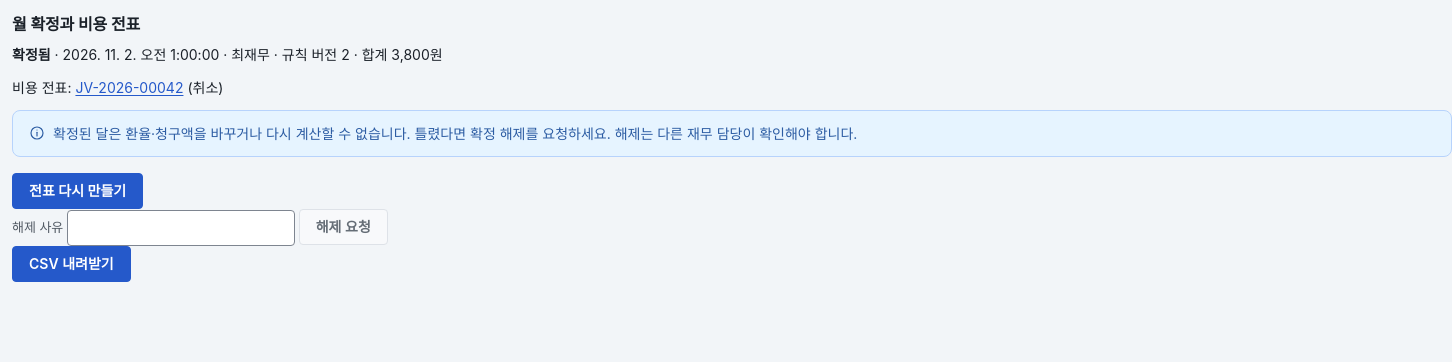
Test: 월 확정 패널 › 전표가 취소됐으면 다시 만들기 단추를 보이고, 서버 거절 문장을 그대로 보인다
The image size is (1452, 362).
Click the button "전표 다시 만들기" at x=78, y=191, box [12,173,143,209]
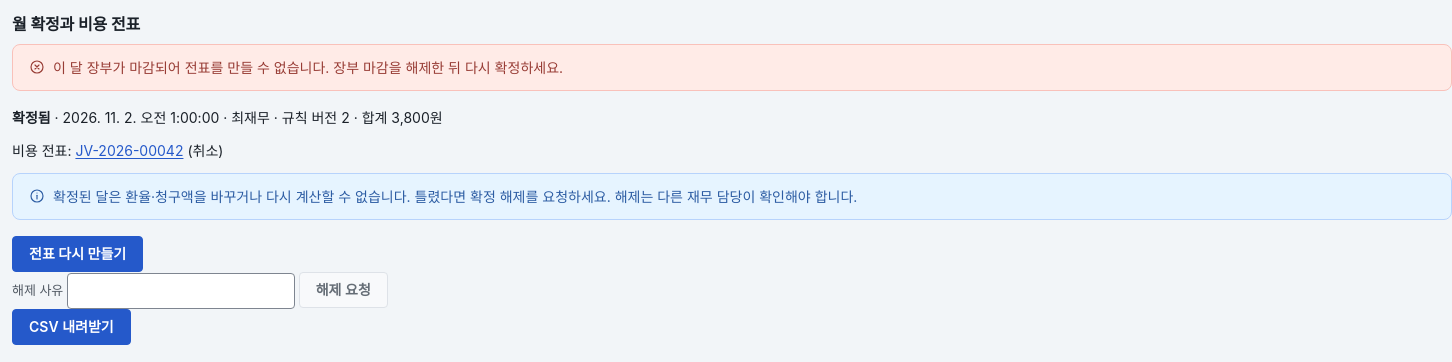
Now the message "이 달 장부가 마감되어 전표를 만들 수 없습니다. 장부 마감을 해제한 뒤 다시 확정하세요." is shown, box [12,44,1451,91]
